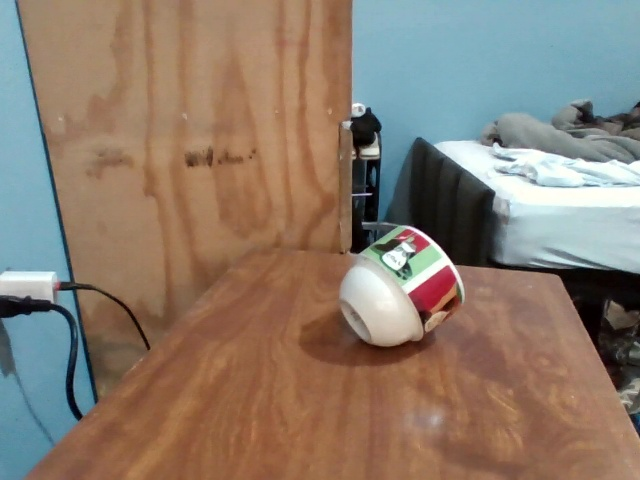taza: (334, 218, 470, 354)
